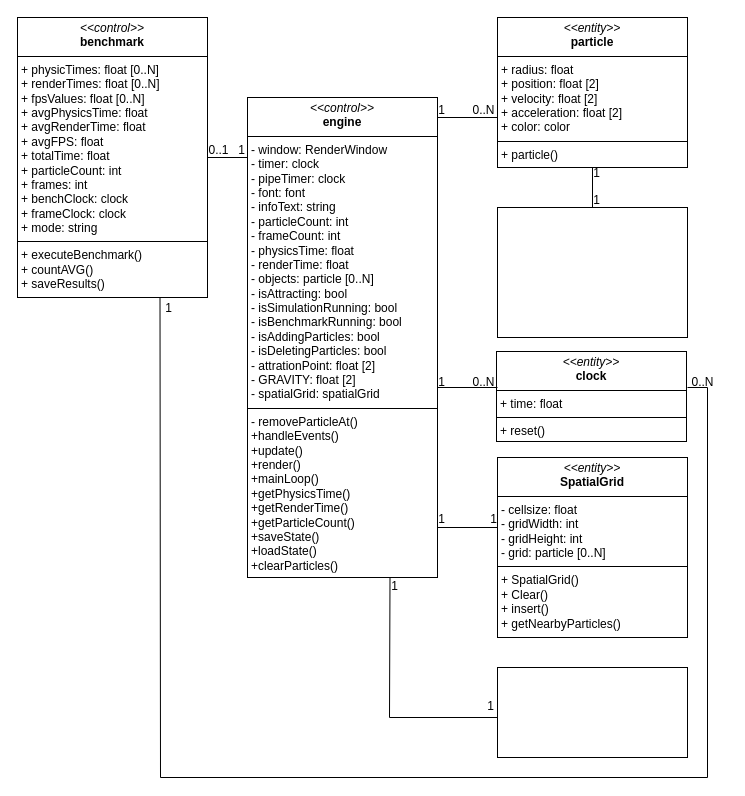
The diagram is 745 pixels wide and 796 high, and some of its shapes have lost their labels. Each missing label, with the centre of its shape:
<<entity>> color + R: int + G: int + B: int + A: int: the point at 592,272
<<entity>> font + fontName: string: the point at 592,712
